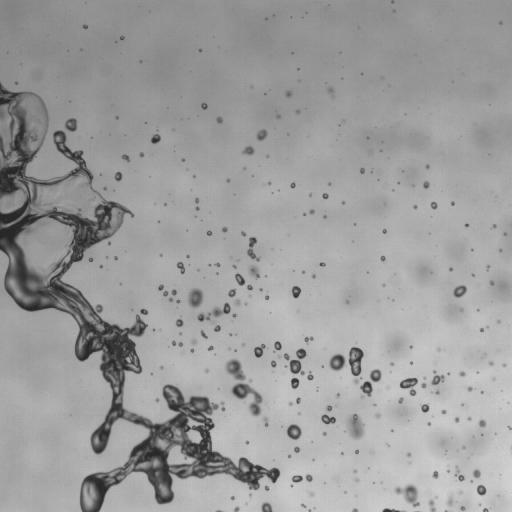droplet: (328, 347, 364, 384), (282, 348, 313, 389), (394, 484, 419, 507), (345, 413, 365, 439), (187, 288, 203, 308), (400, 377, 417, 395), (286, 424, 301, 439), (431, 371, 444, 385), (65, 118, 77, 131), (453, 285, 466, 297), (248, 265, 259, 278), (254, 344, 265, 357), (321, 414, 335, 424), (256, 129, 267, 140), (242, 146, 254, 155), (176, 262, 185, 274), (235, 273, 244, 285), (291, 286, 300, 298), (261, 502, 273, 511), (151, 133, 160, 143), (477, 485, 486, 495), (292, 475, 303, 482), (446, 495, 453, 506), (274, 341, 281, 351), (228, 289, 236, 297), (421, 404, 429, 412), (478, 419, 486, 427), (115, 172, 122, 181), (176, 318, 183, 327), (473, 469, 480, 478), (304, 337, 313, 343), (122, 154, 129, 161), (305, 474, 312, 481), (216, 116, 222, 123), (423, 181, 429, 188), (431, 202, 437, 209), (432, 471, 438, 478), (201, 330, 206, 338), (263, 417, 268, 425), (285, 91, 291, 97), (201, 103, 207, 109), (235, 299, 241, 305), (214, 325, 220, 331), (326, 405, 332, 411), (140, 309, 147, 314), (271, 360, 276, 367), (467, 386, 474, 391), (322, 193, 328, 198), (247, 284, 252, 290), (171, 289, 176, 295), (191, 339, 197, 344), (459, 371, 465, 376), (398, 397, 403, 403), (294, 446, 299, 452), (233, 506, 239, 511), (328, 87, 333, 92), (290, 182, 295, 187), (309, 209, 314, 214), (207, 230, 212, 235), (380, 256, 385, 261), (421, 383, 426, 388), (441, 409, 446, 414), (454, 417, 459, 422), (319, 262, 325, 266), (296, 397, 300, 403), (360, 168, 364, 173), (222, 227, 227, 231), (241, 231, 245, 236), (208, 346, 213, 350), (264, 486, 269, 490), (309, 492, 314, 496), (460, 506, 465, 510), (352, 508, 358, 511), (139, 153, 143, 157), (413, 205, 417, 209), (195, 206, 199, 210), (492, 224, 496, 228), (382, 229, 386, 233), (489, 361, 493, 365), (215, 263, 220, 266), (168, 298, 173, 301), (483, 508, 488, 511), (83, 25, 87, 28), (195, 198, 198, 202), (486, 265, 489, 269), (490, 281, 493, 285), (265, 295, 268, 299), (233, 313, 236, 317), (436, 390, 439, 394), (336, 393, 339, 397), (155, 398, 159, 401), (376, 413, 379, 417), (406, 453, 410, 456), (301, 504, 305, 507), (120, 36, 123, 39), (296, 110, 299, 113), (277, 115, 280, 118), (426, 165, 429, 168), (451, 202, 454, 205), (89, 258, 92, 261), (190, 349, 193, 352), (390, 362, 393, 365), (205, 369, 208, 372), (289, 402, 292, 405), (468, 417, 471, 420), (508, 426, 511, 429), (462, 446, 465, 449), (231, 496, 234, 499), (227, 178, 229, 182), (182, 158, 184, 161), (268, 182, 271, 184), (342, 201, 344, 204), (465, 224, 468, 226), (186, 255, 189, 257), (114, 257, 117, 259), (233, 265, 235, 268), (449, 268, 452, 270), (312, 275, 315, 277), (177, 299, 179, 302), (480, 329, 483, 331), (242, 343, 244, 346), (437, 348, 440, 350), (480, 391, 483, 393), (427, 423, 430, 425), (323, 432, 325, 435), (355, 450, 358, 452), (288, 455, 291, 457), (353, 470, 356, 472), (356, 478, 358, 481), (391, 0, 393, 2), (92, 198, 94, 200), (499, 249, 501, 251), (160, 254, 162, 256), (278, 355, 280, 357), (410, 362, 412, 364), (503, 364, 505, 366), (161, 366, 163, 368), (386, 386, 388, 388), (246, 441, 248, 443), (447, 470, 449, 472), (460, 491, 462, 493), (249, 494, 251, 496)
ligament: (0, 82, 277, 511), (225, 358, 262, 416), (197, 302, 230, 321), (360, 369, 381, 397), (247, 237, 259, 260), (454, 466, 464, 481), (158, 284, 167, 296), (428, 499, 436, 511), (382, 508, 406, 511), (172, 341, 182, 346), (444, 509, 451, 511), (216, 510, 222, 511), (510, 446, 511, 451), (308, 510, 311, 511)
